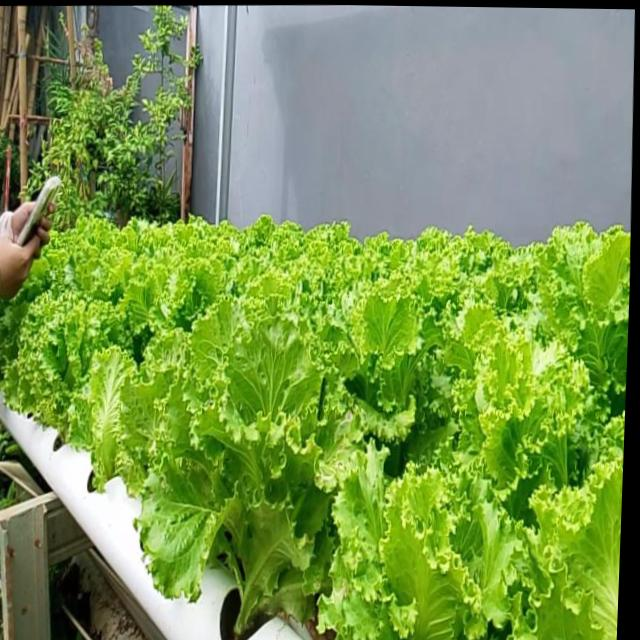Mature: (0, 216, 630, 640), (150, 330, 343, 625), (0, 261, 135, 474)
